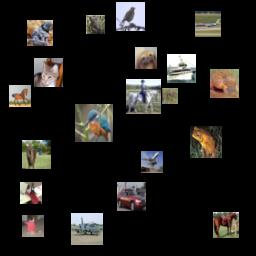airplane: (71, 213, 103, 245), (195, 11, 221, 37), (20, 182, 42, 204), (141, 151, 163, 173)
automobile: (117, 182, 146, 211)
bird: (75, 104, 113, 142), (116, 2, 145, 31)
cat: (34, 58, 63, 87), (27, 20, 53, 46)
deer: (22, 140, 51, 169), (162, 88, 178, 104)
dog: (135, 47, 157, 69), (22, 215, 44, 237)
frog: (190, 126, 222, 158), (210, 69, 239, 98), (86, 15, 105, 34)
ship: (167, 54, 196, 83)
